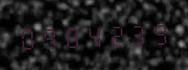eight: (61, 21, 82, 50)
four: (83, 20, 104, 49)
nine: (39, 21, 60, 51), (149, 18, 170, 47)
three: (127, 18, 148, 48)
two: (105, 19, 126, 48)
zero: (17, 22, 38, 51)
